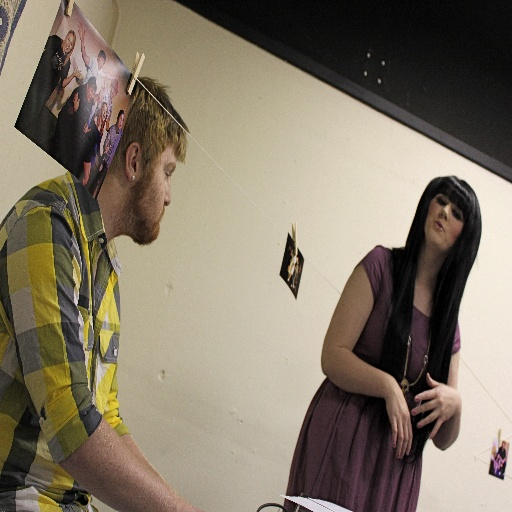hand: (418, 378, 462, 446), (384, 377, 413, 463), (76, 21, 86, 41), (72, 91, 81, 112), (81, 120, 92, 136), (71, 64, 82, 77), (103, 140, 112, 155), (114, 74, 120, 79)
